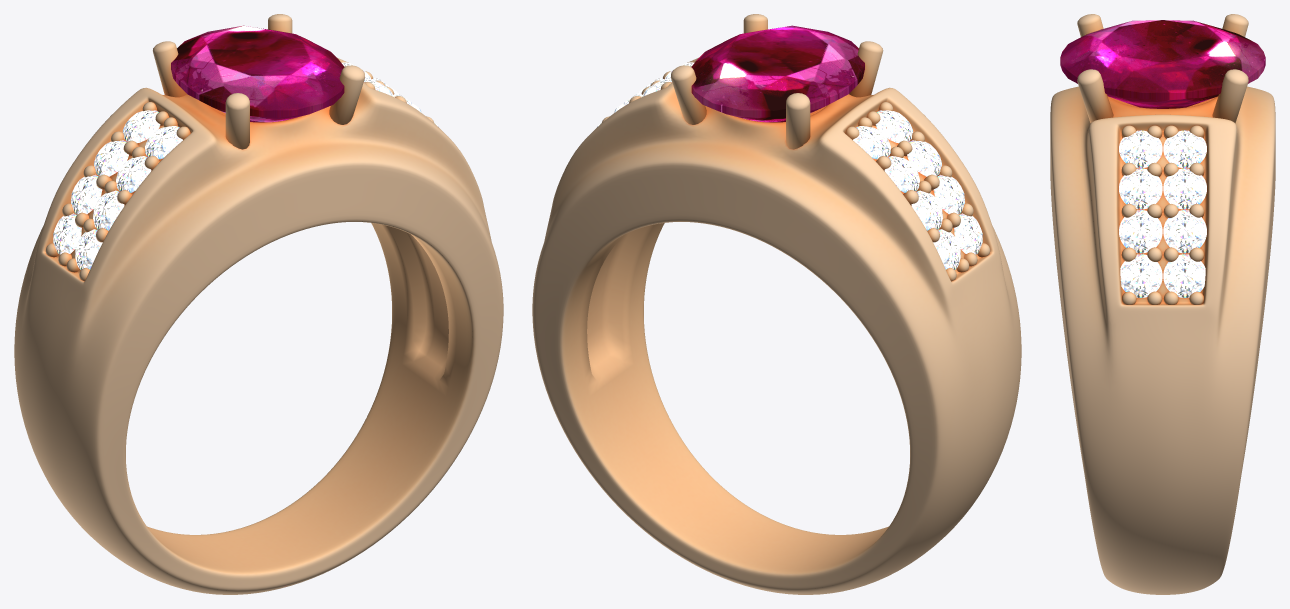
Rendered from GNRBXMY000598.glb.
The picture shows the model from 3 angles, left to right: view 1: azimuth 30°, elevation 25°; view 2: azimuth 150°, elevation 25°; view 3: azimuth 270°, elevation 25°; orthographic projection.
Parts seen in each view (by area): view 1: GNRBXMY000598; view 2: GNRBXMY000598; view 3: GNRBXMY000598.
Part boxes in pixels (box(x1,y1,x2,y2)): GNRBXMY000598: box(14, 14, 503, 594); GNRBXMY000598: box(532, 14, 1021, 594); GNRBXMY000598: box(1050, 14, 1275, 594).
Bounding box in the file's own units: 0.1714 × 0.1983 × 0.0764.
1 material, 1 textured.
